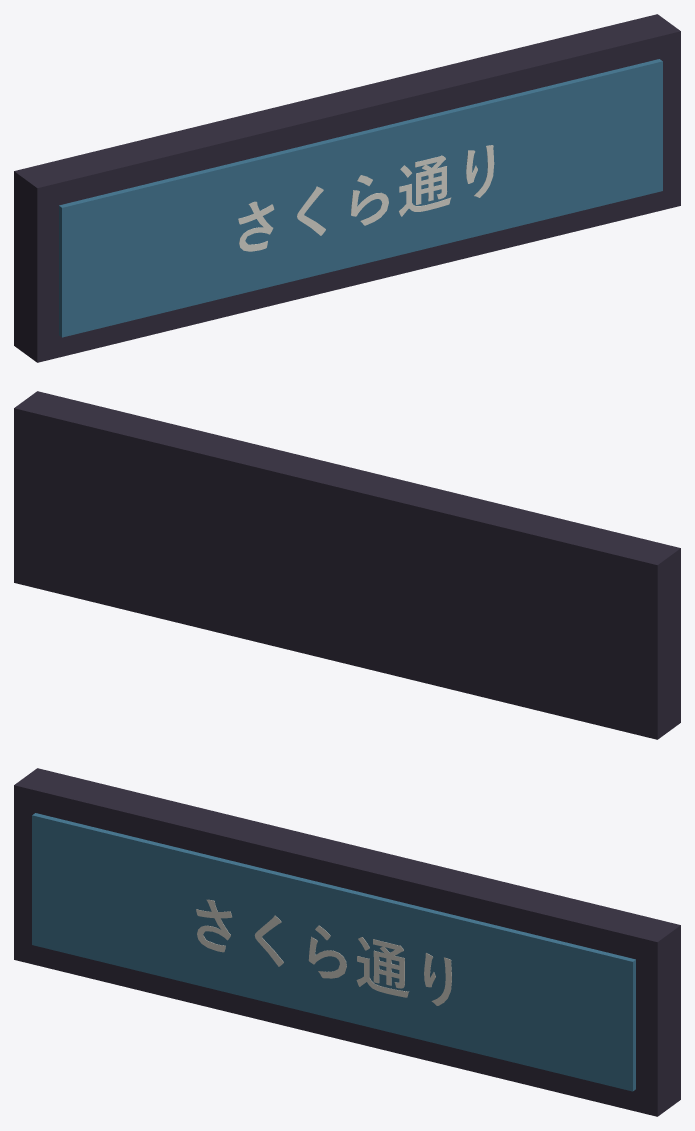
The model's file is SM_Sign_SakuraStreet.fbx.
3 views of the same model, one above another, from view 1: azimuth 30°, elevation 25°; view 2: azimuth 150°, elevation 25°; view 3: azimuth 330°, elevation 25° (orthographic).
Visible parts, largest first — view 1: SM_Sign_SakuraStreet; view 2: SM_Sign_SakuraStreet; view 3: SM_Sign_SakuraStreet.
Part boxes in pixels (left/top/right/bottom): SM_Sign_SakuraStreet: left=14, top=14, right=680, bottom=362; SM_Sign_SakuraStreet: left=14, top=391, right=680, bottom=739; SM_Sign_SakuraStreet: left=14, top=768, right=680, bottom=1116.
Size of the model in its own units: 1.35 by 0.1194 by 0.35.
